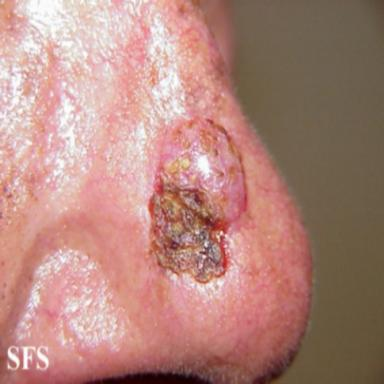basal-cell-carcinoma: (146, 119, 248, 283)
